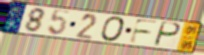2: (74, 13, 99, 41)
5: (47, 9, 72, 37)
8: (24, 7, 46, 34)
F: (127, 18, 160, 45)
O: (100, 15, 127, 43)
P: (152, 21, 182, 48)
